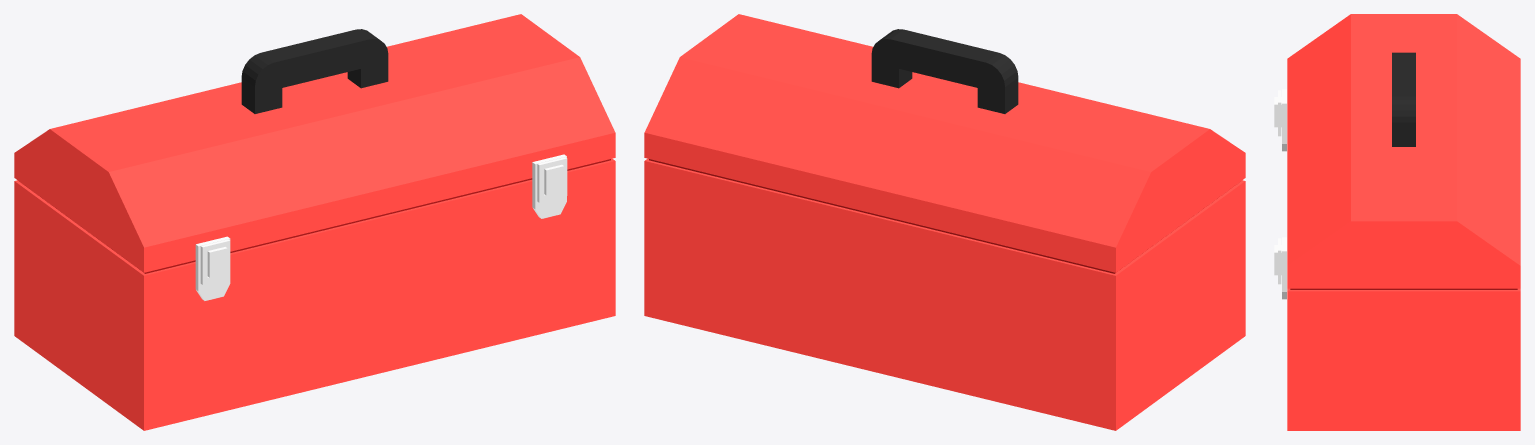
Rendered from toolbox.gltf.
3 views of the same model, side by side, from view 1: azimuth 30°, elevation 25°; view 2: azimuth 150°, elevation 25°; view 3: azimuth 270°, elevation 25° (orthographic). The views are drawn at different scales.
Parts seen in each view (by area): view 1: Cube.1002; view 2: Cube.1002; view 3: Cube.1002.
Boxes of the visible parts, bbox=[...] form: Cube.1002: bbox=[14, 14, 615, 430]; Cube.1002: bbox=[644, 14, 1245, 430]; Cube.1002: bbox=[1274, 14, 1520, 430].
Size of the model in its own units: 2.02 by 1.15 by 1.01.
1 material, 1 textured.
